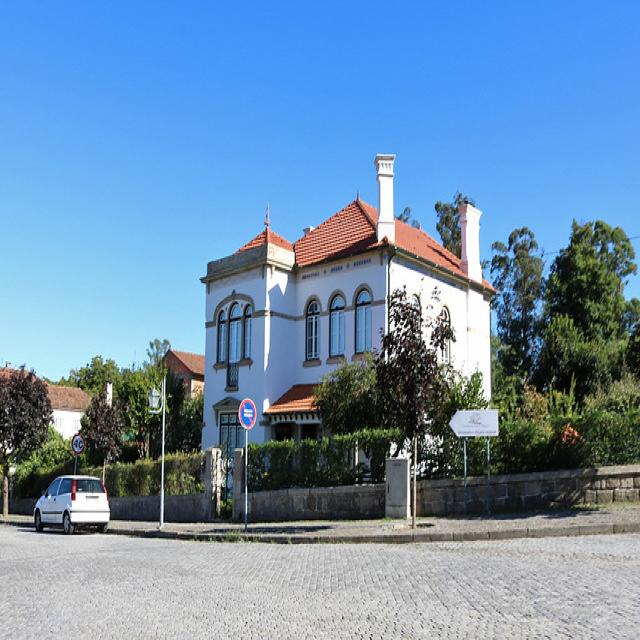building: (200, 150, 501, 493)
